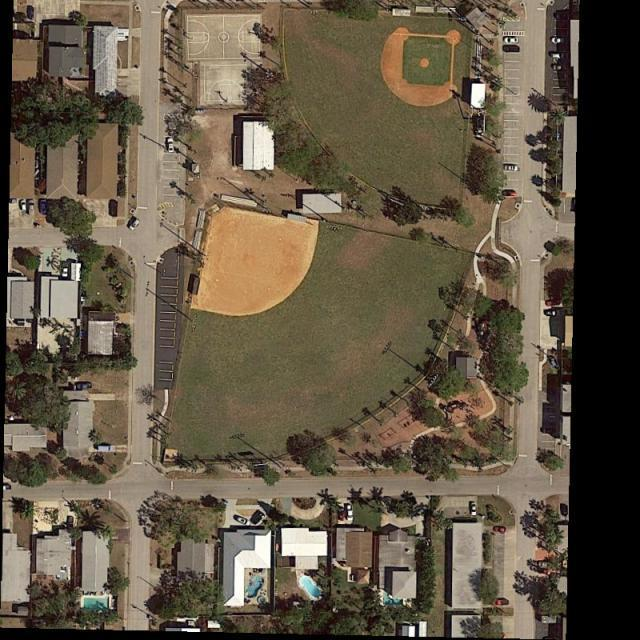vehicle: (252, 511, 266, 525), (236, 515, 251, 526), (130, 219, 141, 231), (546, 308, 562, 316), (546, 298, 562, 306), (62, 263, 70, 278), (505, 45, 520, 53), (67, 514, 74, 531), (347, 504, 354, 521), (76, 383, 93, 390), (28, 5, 35, 21), (538, 568, 553, 575), (168, 138, 175, 153), (495, 597, 508, 605), (29, 200, 36, 214), (504, 164, 518, 171), (502, 190, 518, 196), (554, 64, 567, 71), (471, 502, 478, 515), (504, 37, 519, 43), (551, 53, 565, 59), (556, 14, 570, 20), (340, 507, 346, 521), (494, 526, 506, 533), (553, 38, 566, 44), (562, 504, 568, 517), (41, 199, 46, 213), (538, 562, 551, 566), (21, 201, 26, 211)
